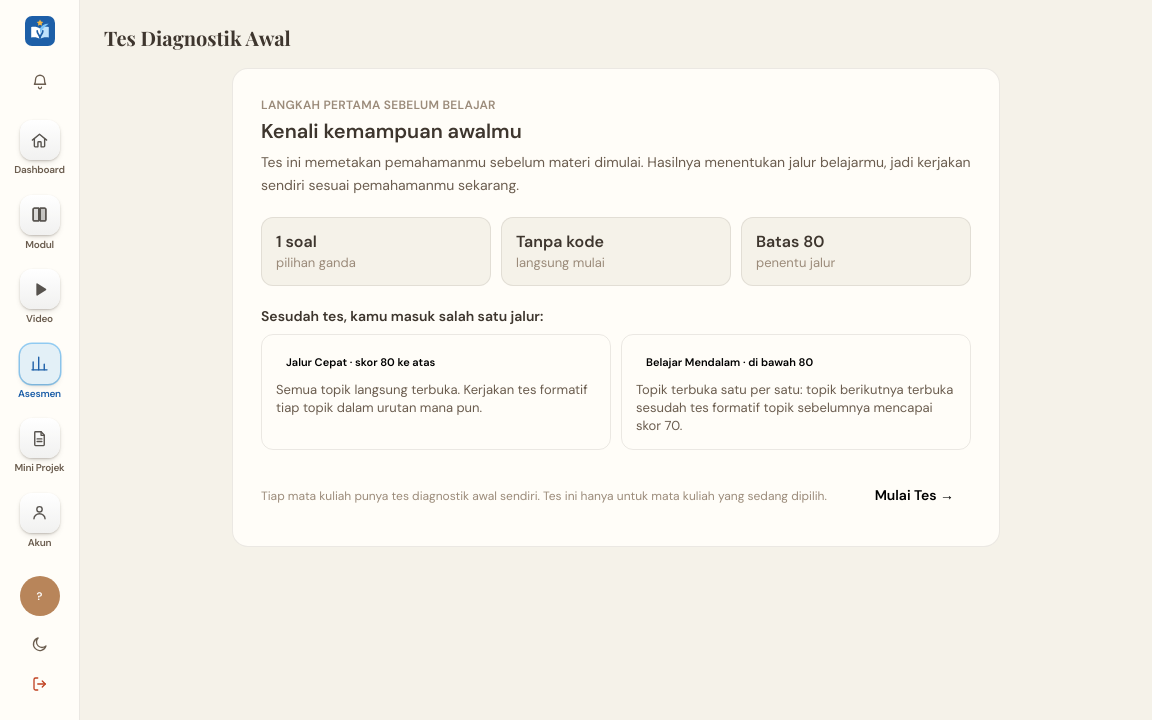
Test case: AsesmenMhs — pre-test (spec §9 WP6 poin 5b) › jawaban tidak dinilai di layar soal; tinjauan muncul sesudah dikirim
Click the button "Mulai Tes →" at (914, 496), box [858,474,971,518]
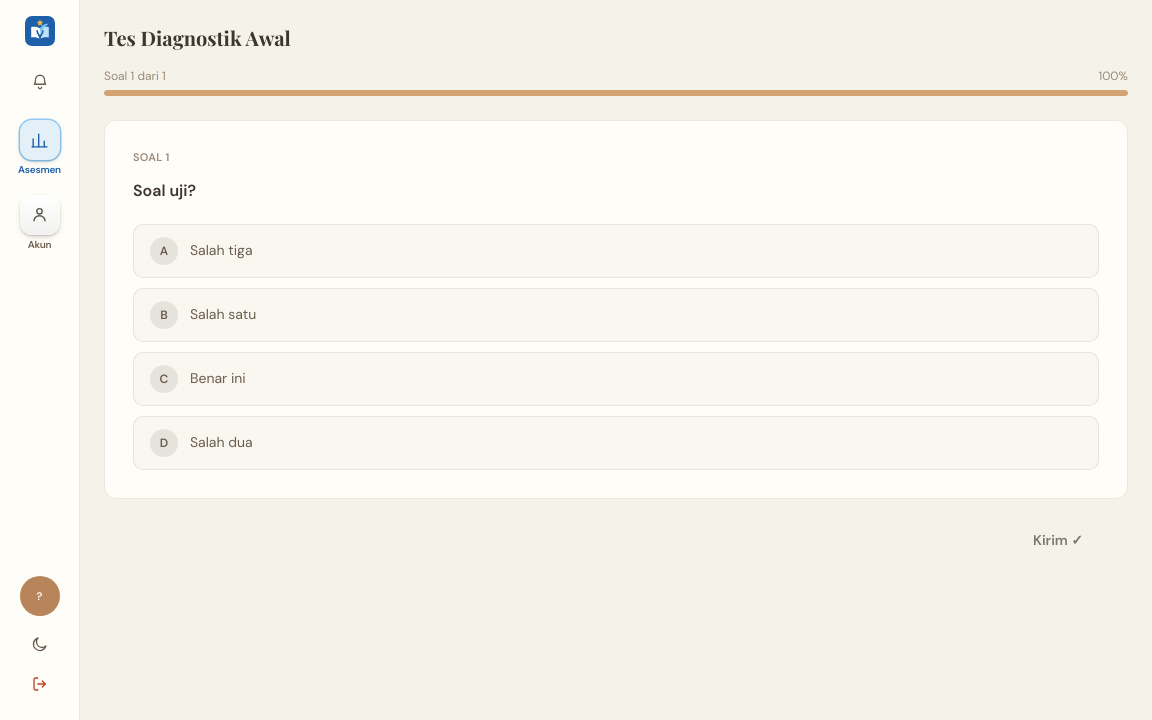
Click the text "Salah satu" at (223, 314), box [190,305,256,323]
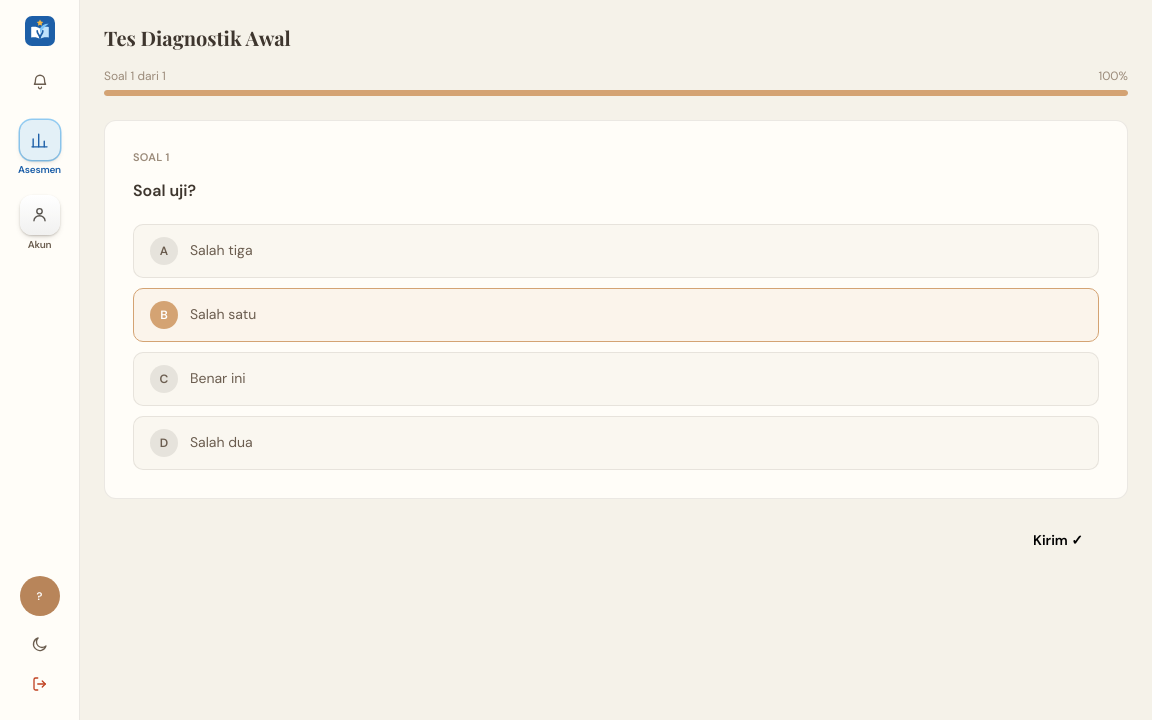
Note: Pilihan masih boleh diganti sebelum dikirim.
Click the text "Salah dua" at (221, 442), box [190,433,253,451]
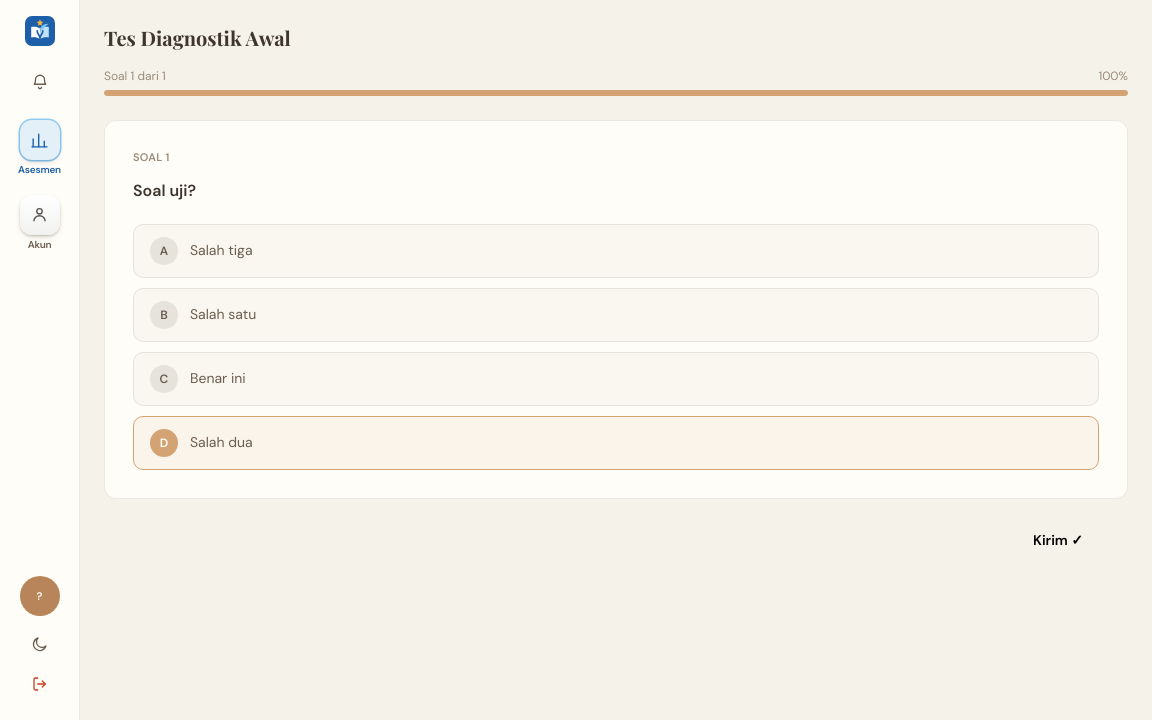
Click the button "Kirim ✓" at (1058, 540), box [988,518,1128,562]
(page scrolled)
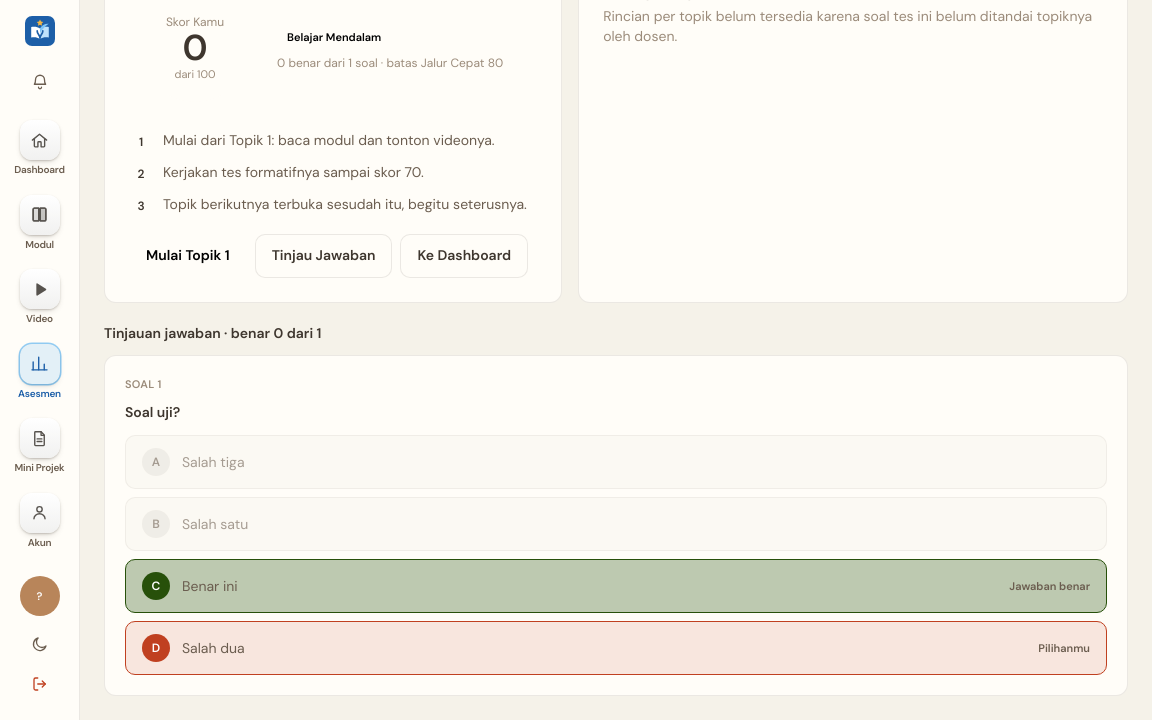
Check: the text "Skor Kamu" is shown, box [166,14,224,30]
Check: the text "0" is shown, box [182,24,208,71]
Check: the text "Tinjauan jawaban · benar 0 dari 1" is shown, box [104,324,321,342]
